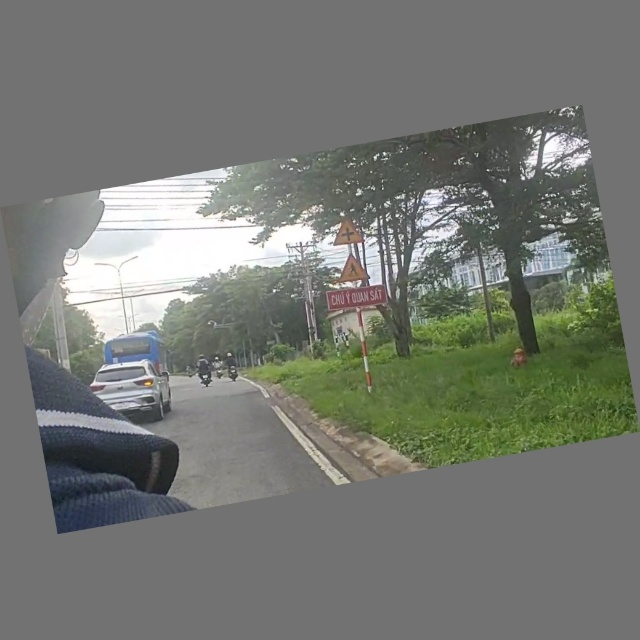W.205a: (328, 216, 369, 251)
W.224: (331, 250, 374, 288)
